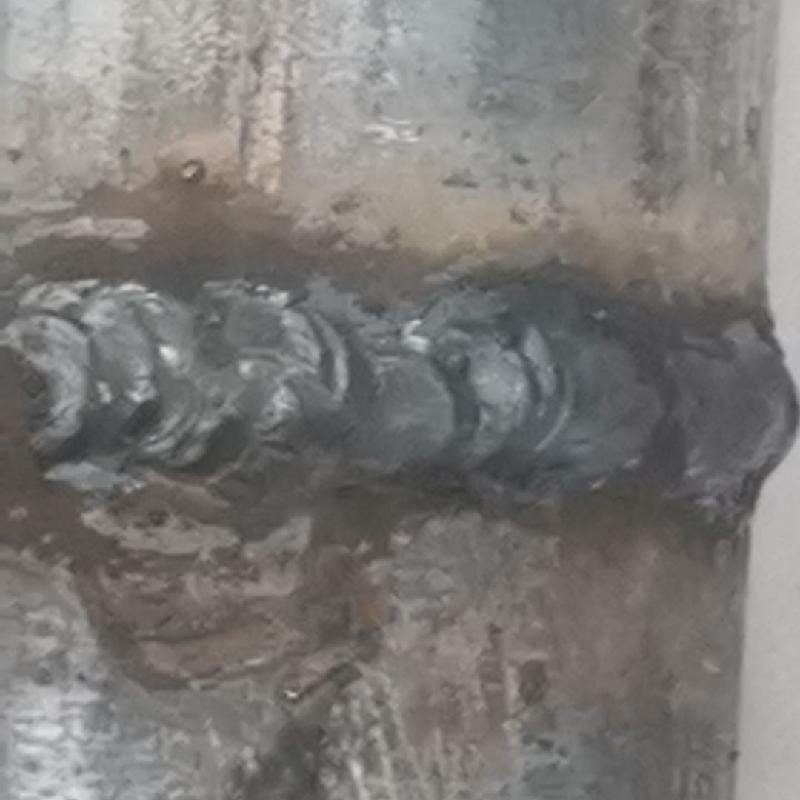good: (3, 269, 799, 518)
